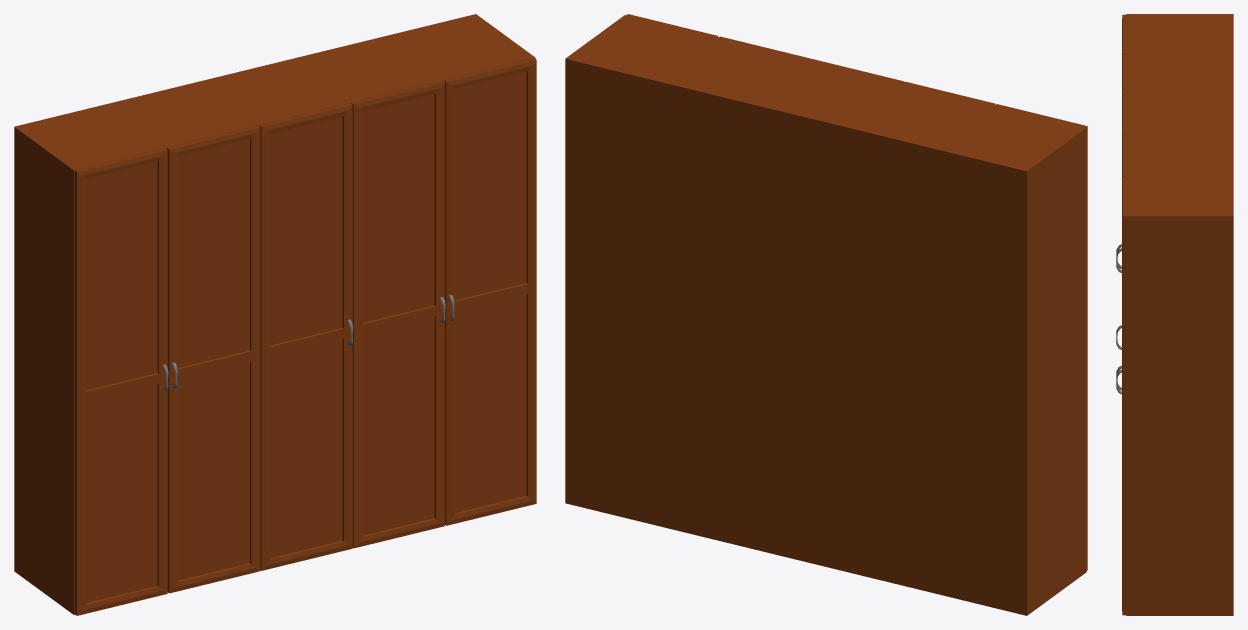
Rendered from desk.obj.
The picture shows the model from 3 angles, left to right: view 1: azimuth 30°, elevation 25°; view 2: azimuth 150°, elevation 25°; view 3: azimuth 270°, elevation 25°; orthographic projection. The views are drawn at different scales.
Visible parts, largest first — view 1: wardrobe_Cube.025; view 2: wardrobe_Cube.025; view 3: wardrobe_Cube.025.
Boxes of the visible parts, left/top/right/bottom form: wardrobe_Cube.025: left=14, top=14, right=536, bottom=615; wardrobe_Cube.025: left=565, top=14, right=1087, bottom=615; wardrobe_Cube.025: left=1116, top=14, right=1233, bottom=615.
Size of the model in its own units: 2.5 by 2.3 by 0.6124.
